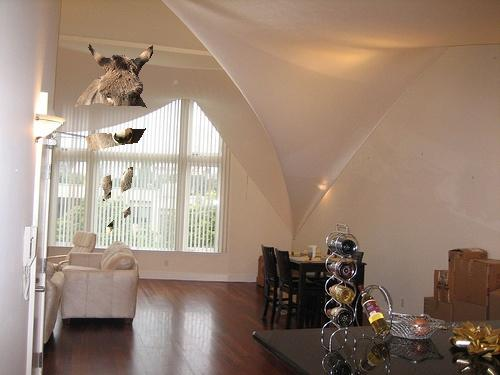tampered: (76, 45, 153, 234)
